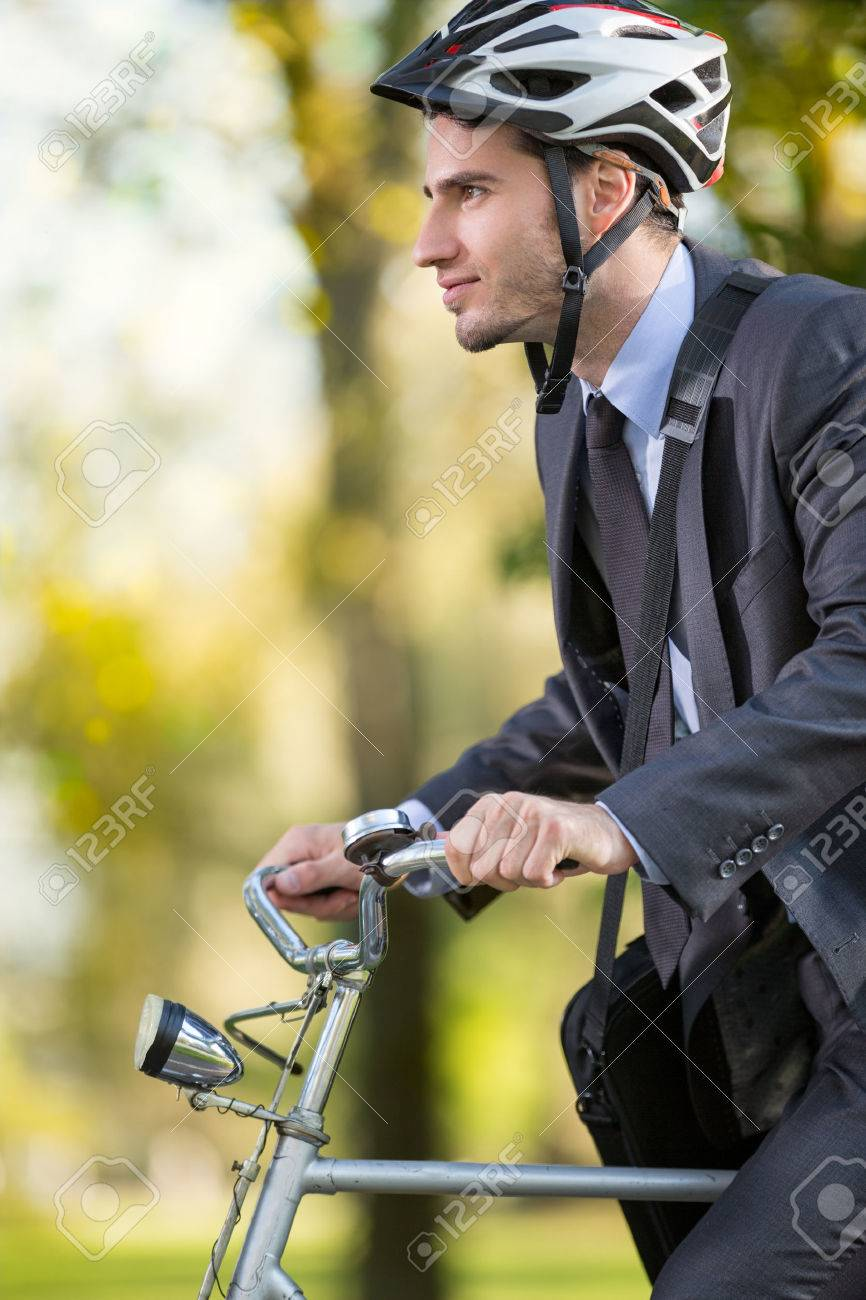helmet: (371, 1, 731, 352)
